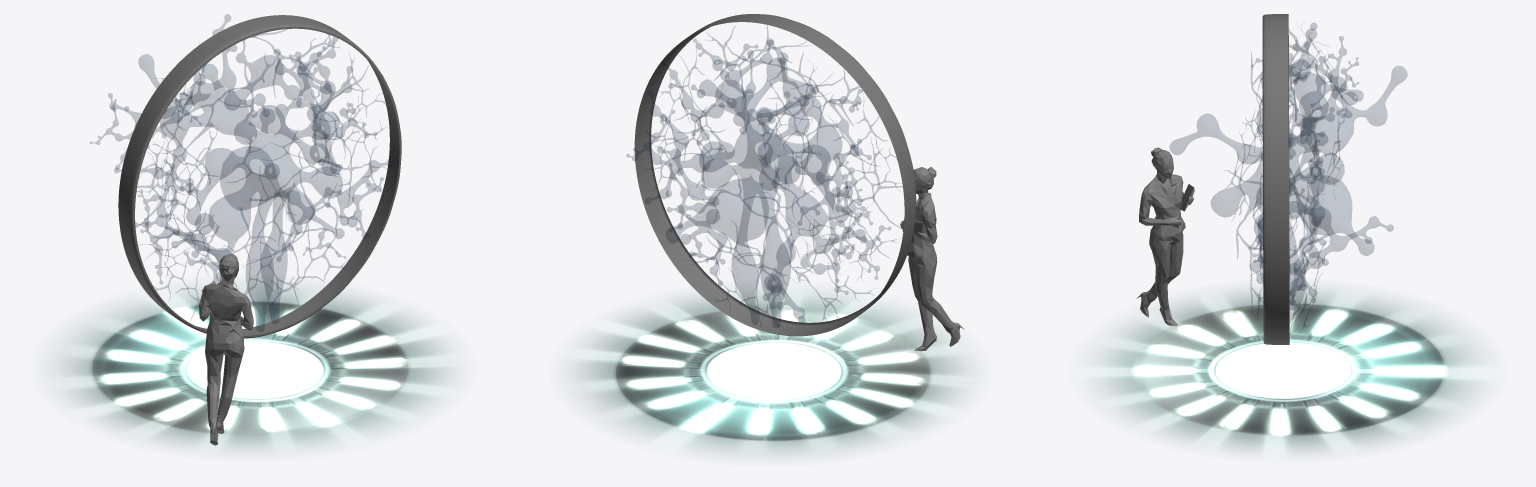
File: central-brain.glb
3 views of the same model, side by side, from view 1: azimuth 30°, elevation 25°; view 2: azimuth 150°, elevation 25°; view 3: azimuth 270°, elevation 25° (orthographic).
Visible parts, largest first — view 1: CML_podklad_03, CML_MOZEK_01, CML_OBRUC_02, zena; view 2: CML_podklad_03, CML_MOZEK_01, CML_OBRUC_02, zena; view 3: CML_podklad_03, CML_MOZEK_01, CML_OBRUC_02, zena.
Boxes of the visible parts, left/top/right/bottom form: CML_podklad_03: left=54, top=284, right=455, bottom=453; CML_MOZEK_01: left=90, top=14, right=393, bottom=331; CML_OBRUC_02: left=118, top=15, right=401, bottom=338; zena: left=198, top=254, right=253, bottom=445; CML_podklad_03: left=572, top=288, right=971, bottom=456; CML_MOZEK_01: left=626, top=26, right=903, bottom=327; CML_OBRUC_02: left=634, top=14, right=916, bottom=336; zena: left=900, top=167, right=964, bottom=351; CML_podklad_03: left=1089, top=288, right=1483, bottom=455; CML_MOZEK_01: left=1169, top=23, right=1407, bottom=328; CML_OBRUC_02: left=1262, top=14, right=1289, bottom=344; zena: left=1136, top=147, right=1194, bottom=325.
Bounding box in the file's own units: 4.16 × 3.29 × 4.15.
4 materials, 1 textured.
